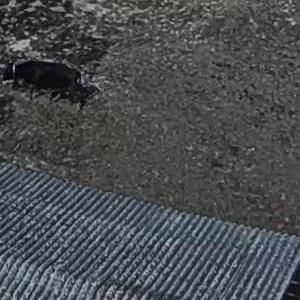cow: (4, 44, 98, 114)
